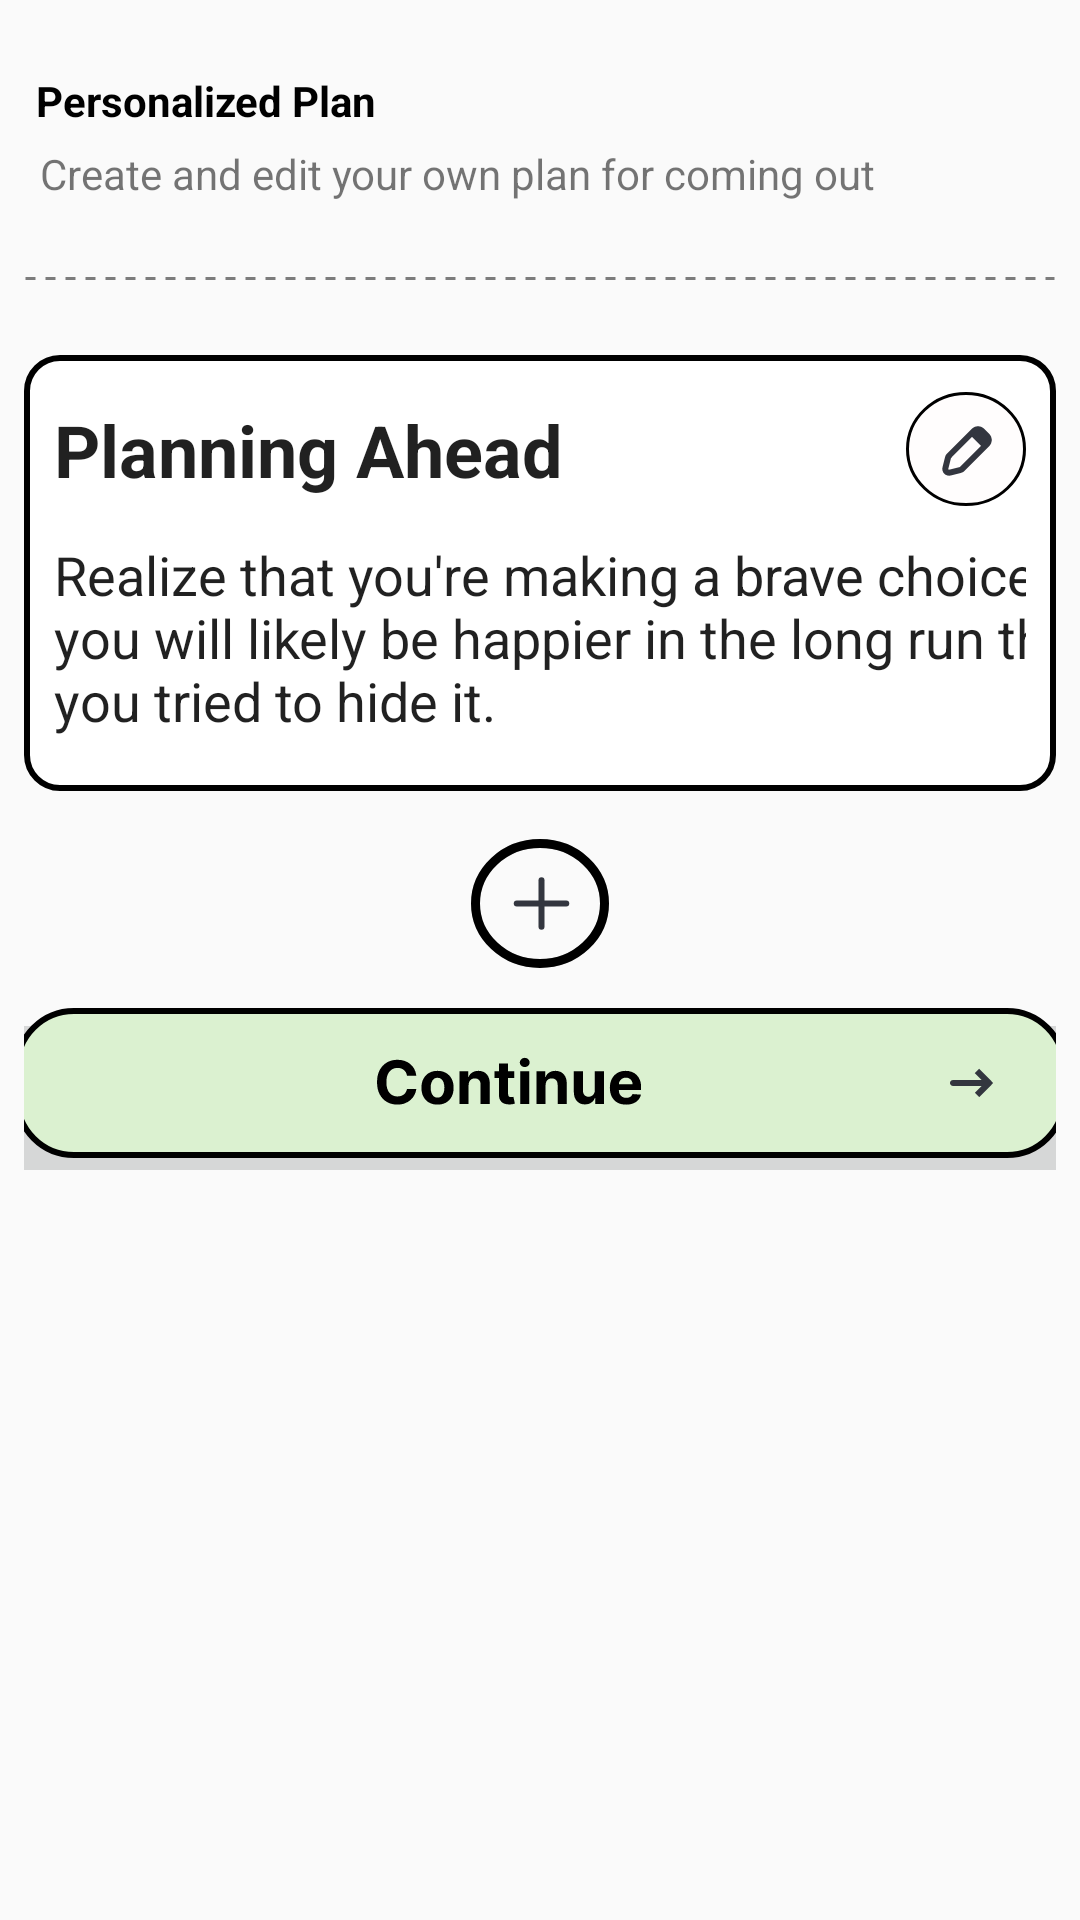

Named icons in this screenshot (1080*1920) and their bounding boxes, (x1, y1, x2, y2):
edit: (906, 392, 1026, 506)
plus: (471, 839, 609, 968)
